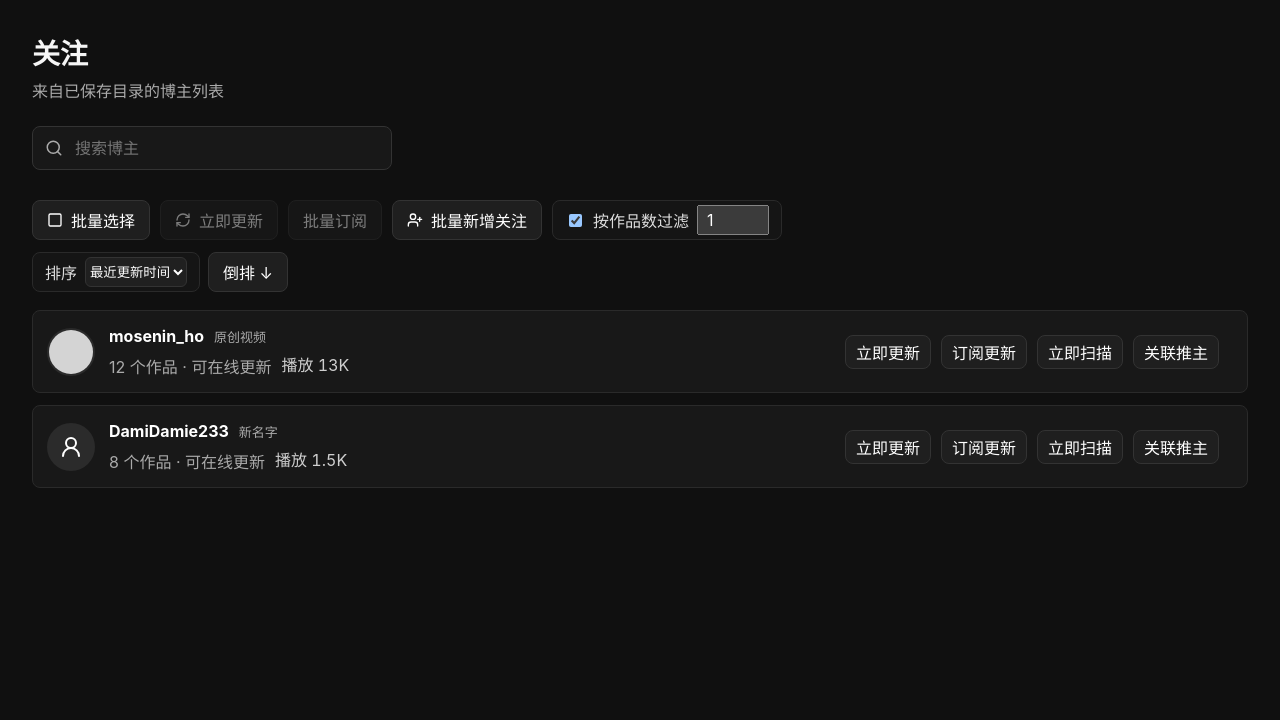
Test: enqueues a single creator scan from creator actions
Expected: the text "mosenin_ho" is shown, 109,326 -> 204,346
Click the button "立即扫描" in the row of "13K": (1080,352) 1037,334 -> 1123,368
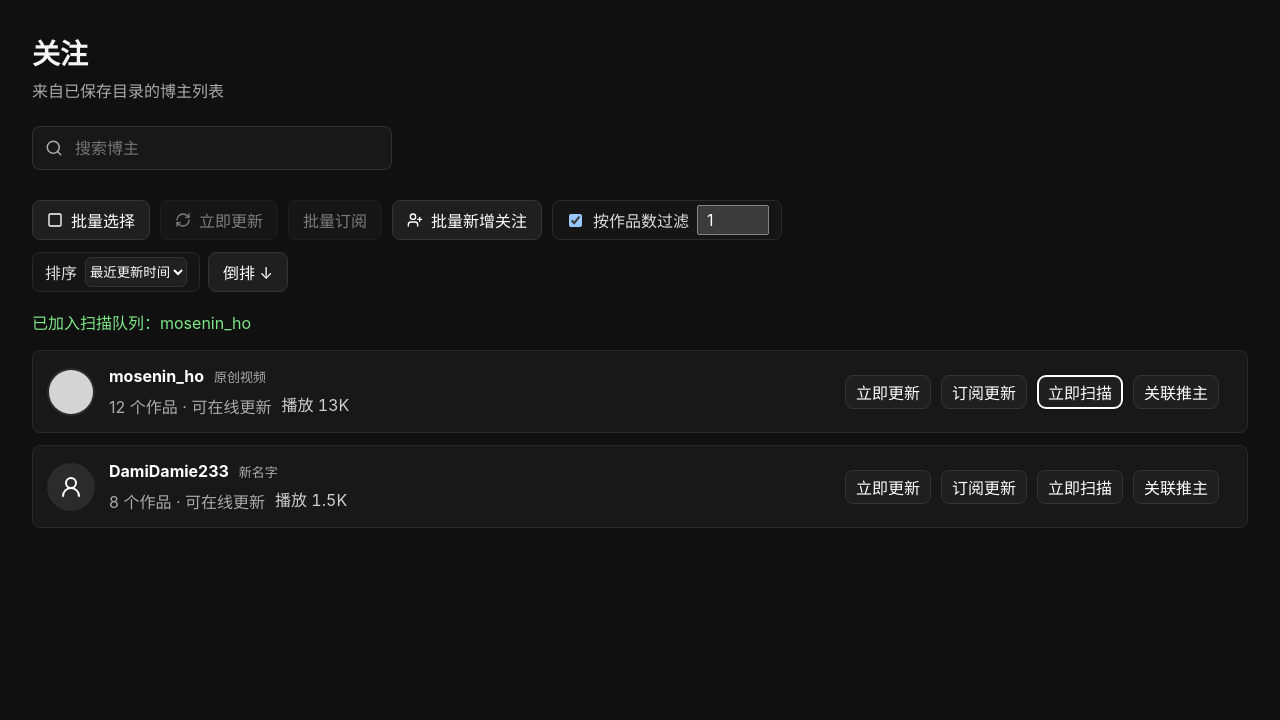
Now the text "已加入扫描队列：mosenin_ho" is shown, box 32,313 -> 251,333
